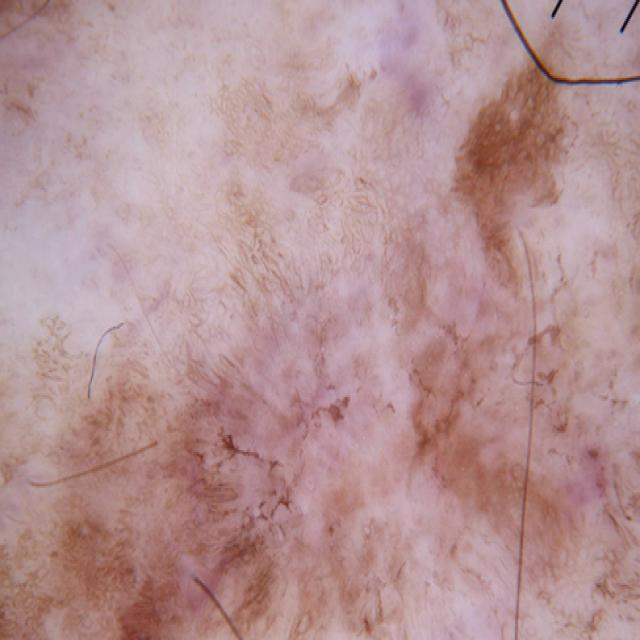Keratosis: (120, 330, 373, 640), (0, 2, 150, 492), (343, 399, 619, 640), (447, 57, 610, 391)
